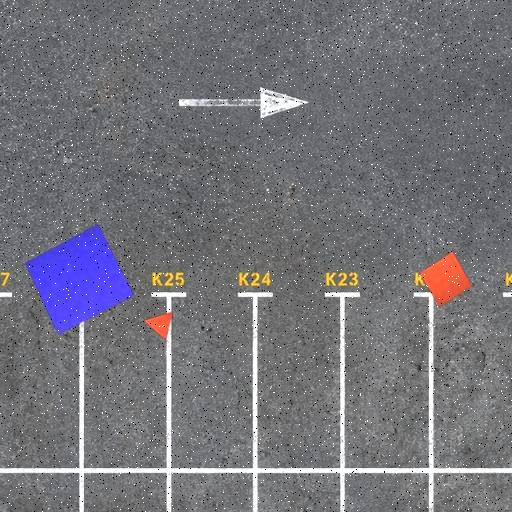BLUE_SQUARE: (24, 223, 135, 336)
RED_SQUARE: (419, 251, 473, 308)
